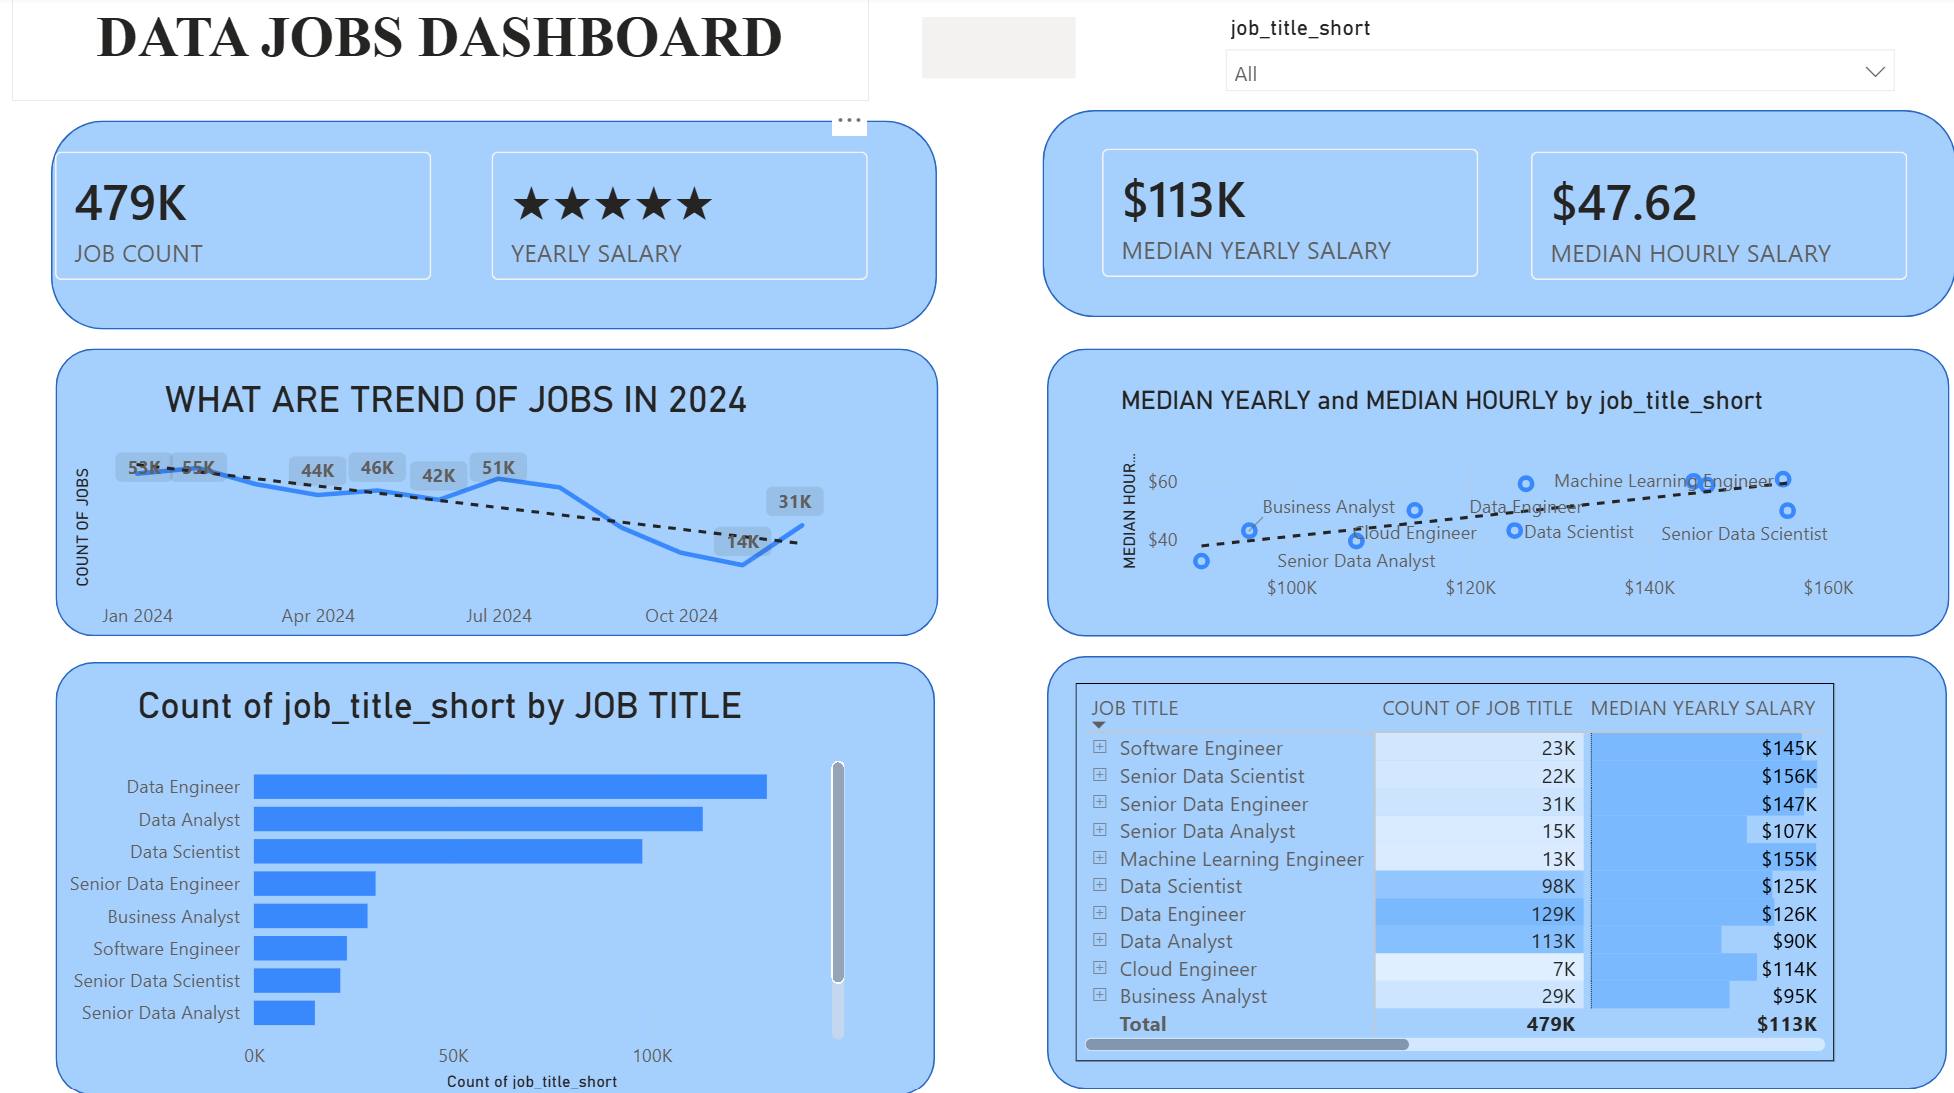

The page's visual inventory and layout, read from the dashboard file:
{"tool":"powerbi","page":{"name":"DATA JOBS DASHBOARD","canvas":[1280,720],"ordinal":0},"visuals":[{"type":"group","id":"g1","title":"Group 1","box":[35,75,1245,645],"z":0},{"type":"textbox","box":[10.1,0,559.2,68.4],"z":1000},{"type":"slicer","fields":{"Values":["job_postings_flat.job_title_short"]},"box":[792.9,7.1,457.1,61.4],"z":2000},{"type":"cardVisual","fields":{"Data":["CountNonNull(job_postings_flat.job_title_short)"]},"box":[20.9,84.5,280,118.6],"z":3000},{"type":"shape","box":[37.8,435.9,575,284.2],"z":3500,"group":"g1"},{"type":"cardVisual","fields":{"Data":["job_postings_flat.YEARLY SALARY"]},"box":[306.4,84.5,280,118.6],"z":4000},{"type":"shape","box":[37.5,230.9,577.1,188.2],"z":4000,"group":"g1"},{"type":"cardVisual","fields":{"Data":["Median(job_postings_flat.salary_year_avg)"]},"box":[705.5,82.7,280,118.6],"z":5000},{"type":"shape","box":[686.2,230.9,590,188.3],"z":5000,"group":"g1"},{"type":"cardVisual","fields":{"Data":["Median(job_postings_flat.salary_hour_avg)"]},"box":[985.5,84.5,280,118.6],"z":6000},{"type":"lineChart","title":"WHAT ARE TREND OF JOBS IN 2024","fields":{"Category":["job_postings_flat.job_posted_date.Variation.Date Hierarchy.Year","job_postings_flat.job_posted_date.Variation.Date Hierarchy.Quarter","job_postings_flat.job_posted_date.Variation.Date Hierarchy.Month","job_postings_flat.job_posted_date.Variation.Date Hierarchy.Day"],"Y":["CountNonNull(job_postings_flat.job_title_short)"]},"box":[45.5,249.1,510,174],"z":7000},{"type":"shape","box":[686.2,431.8,588.3,283.3],"z":7000,"group":"g1"},{"type":"barChart","fields":{"Category":["job_postings_flat.job_title_short"],"Y":["CountNonNull(job_postings_flat.job_title_short)"]},"box":[20.9,449.1,538,271],"z":8000},{"type":"scatterChart","fields":{"X":["Median(job_postings_flat.salary_year_avg)"],"Y":["job_postings_flat.salary_hour_avg"],"Series":["job_postings_flat.job_title_short"]},"box":[730,253.6,489,151],"z":9000},{"type":"shape","box":[35,81.8,579.2,136.7],"z":9500,"group":"g1"},{"type":"shape","box":[682.7,75,597.3,135.5],"z":9750,"group":"g1"},{"type":"pivotTable","fields":{"Rows":["job_postings_flat.job_title_short","job_postings_flat.job_posted_date.Variation.Date Hierarchy.Quarter"],"Values":["CountNonNull(job_postings_flat.job_title_short)","Median(job_postings_flat.salary_year_avg)","Median(job_postings_flat.salary_hour_avg)","SparklineData(CountNonNull(job_postings_flat.job_title_short)_[job_postings_flat.job_posted_date.Variation.Date Hierarch"]},"box":[705.5,449.1,496.3,247.1],"z":10000},{"type":"actionButton","title":"DRILL DOWN","box":[605,14,100,40],"z":11001}]}

Visuals, with their boxes in screenshot pixels (x1, y1, x2, y2), scaled from the page's 1280x720 canvas onto the 1954x1093 screenshot:
"Group 1" group: {"left": 53, "top": 114, "right": 1953, "bottom": 1092}
textbox: {"left": 15, "top": 0, "right": 869, "bottom": 104}
slicer - job_postings_flat.job_title_short: {"left": 1210, "top": 11, "right": 1908, "bottom": 104}
cardVisual - CountNonNull(job_postings_flat.job_title_short): {"left": 32, "top": 128, "right": 459, "bottom": 308}
shape: {"left": 58, "top": 662, "right": 935, "bottom": 1092}
cardVisual - job_postings_flat.YEARLY SALARY: {"left": 468, "top": 128, "right": 895, "bottom": 308}
shape: {"left": 57, "top": 351, "right": 938, "bottom": 636}
cardVisual - Median(job_postings_flat.salary_year_avg): {"left": 1077, "top": 126, "right": 1504, "bottom": 306}
shape: {"left": 1048, "top": 351, "right": 1948, "bottom": 636}
cardVisual - Median(job_postings_flat.salary_hour_avg): {"left": 1504, "top": 128, "right": 1932, "bottom": 308}
"WHAT ARE TREND OF JOBS IN 2024" lineChart: {"left": 69, "top": 378, "right": 848, "bottom": 642}
shape: {"left": 1048, "top": 655, "right": 1946, "bottom": 1086}
barChart - job_postings_flat.job_title_short x CountNonNull(job_postings_flat.job_title_short): {"left": 32, "top": 682, "right": 853, "bottom": 1092}
scatterChart - Median(job_postings_flat.salary_year_avg) x job_postings_flat.salary_hour_avg: {"left": 1114, "top": 385, "right": 1861, "bottom": 614}
shape: {"left": 53, "top": 124, "right": 938, "bottom": 332}
shape: {"left": 1042, "top": 114, "right": 1953, "bottom": 320}
pivotTable - job_postings_flat.job_title_short x job_postings_flat.job_posted_date.Variation.Date Hierarchy.Quarter: {"left": 1077, "top": 682, "right": 1835, "bottom": 1057}
"DRILL DOWN" actionButton: {"left": 924, "top": 21, "right": 1076, "bottom": 82}
